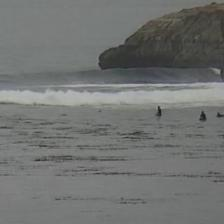surfer: (200, 110, 206, 120), (157, 106, 162, 116), (217, 112, 223, 118)
